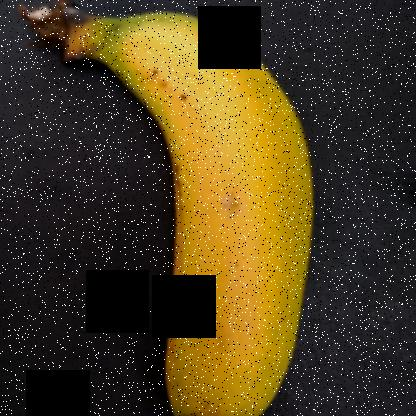freshripe: (81, 11, 330, 415)
